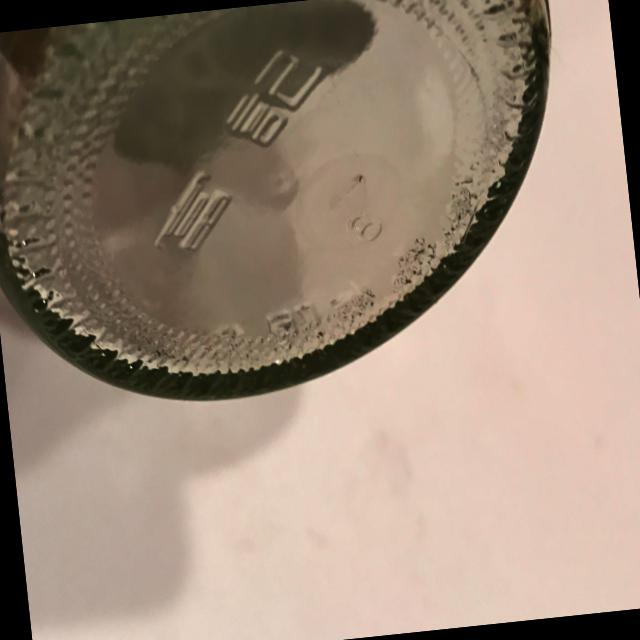Glass: (0, 0, 595, 431)
